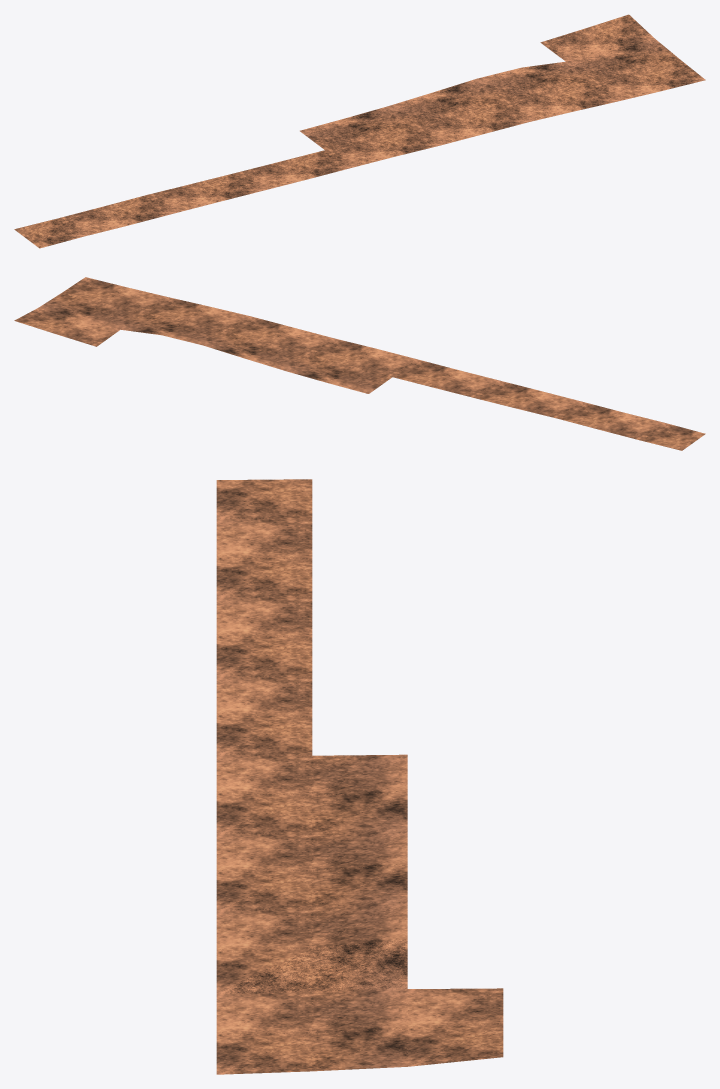
File: terrain_10_01.dae
3 renders of one model, top to bottom at view 1: azimuth 30°, elevation 25°; view 2: azimuth 150°, elevation 25°; view 3: azimuth 270°, elevation 25°, orthographic. The views are drawn at different scales.
Parts seen in each view (by area): view 1: terrain_10_01-node; view 2: terrain_10_01-node; view 3: terrain_10_01-node.
Boxes of the visible parts, bbox=[...] form: terrain_10_01-node: bbox=[14, 14, 705, 248]; terrain_10_01-node: bbox=[14, 277, 705, 450]; terrain_10_01-node: bbox=[216, 479, 503, 1074].
Size of the model in its own units: 60 by 12 by 1.31.
1 material, 1 textured.
